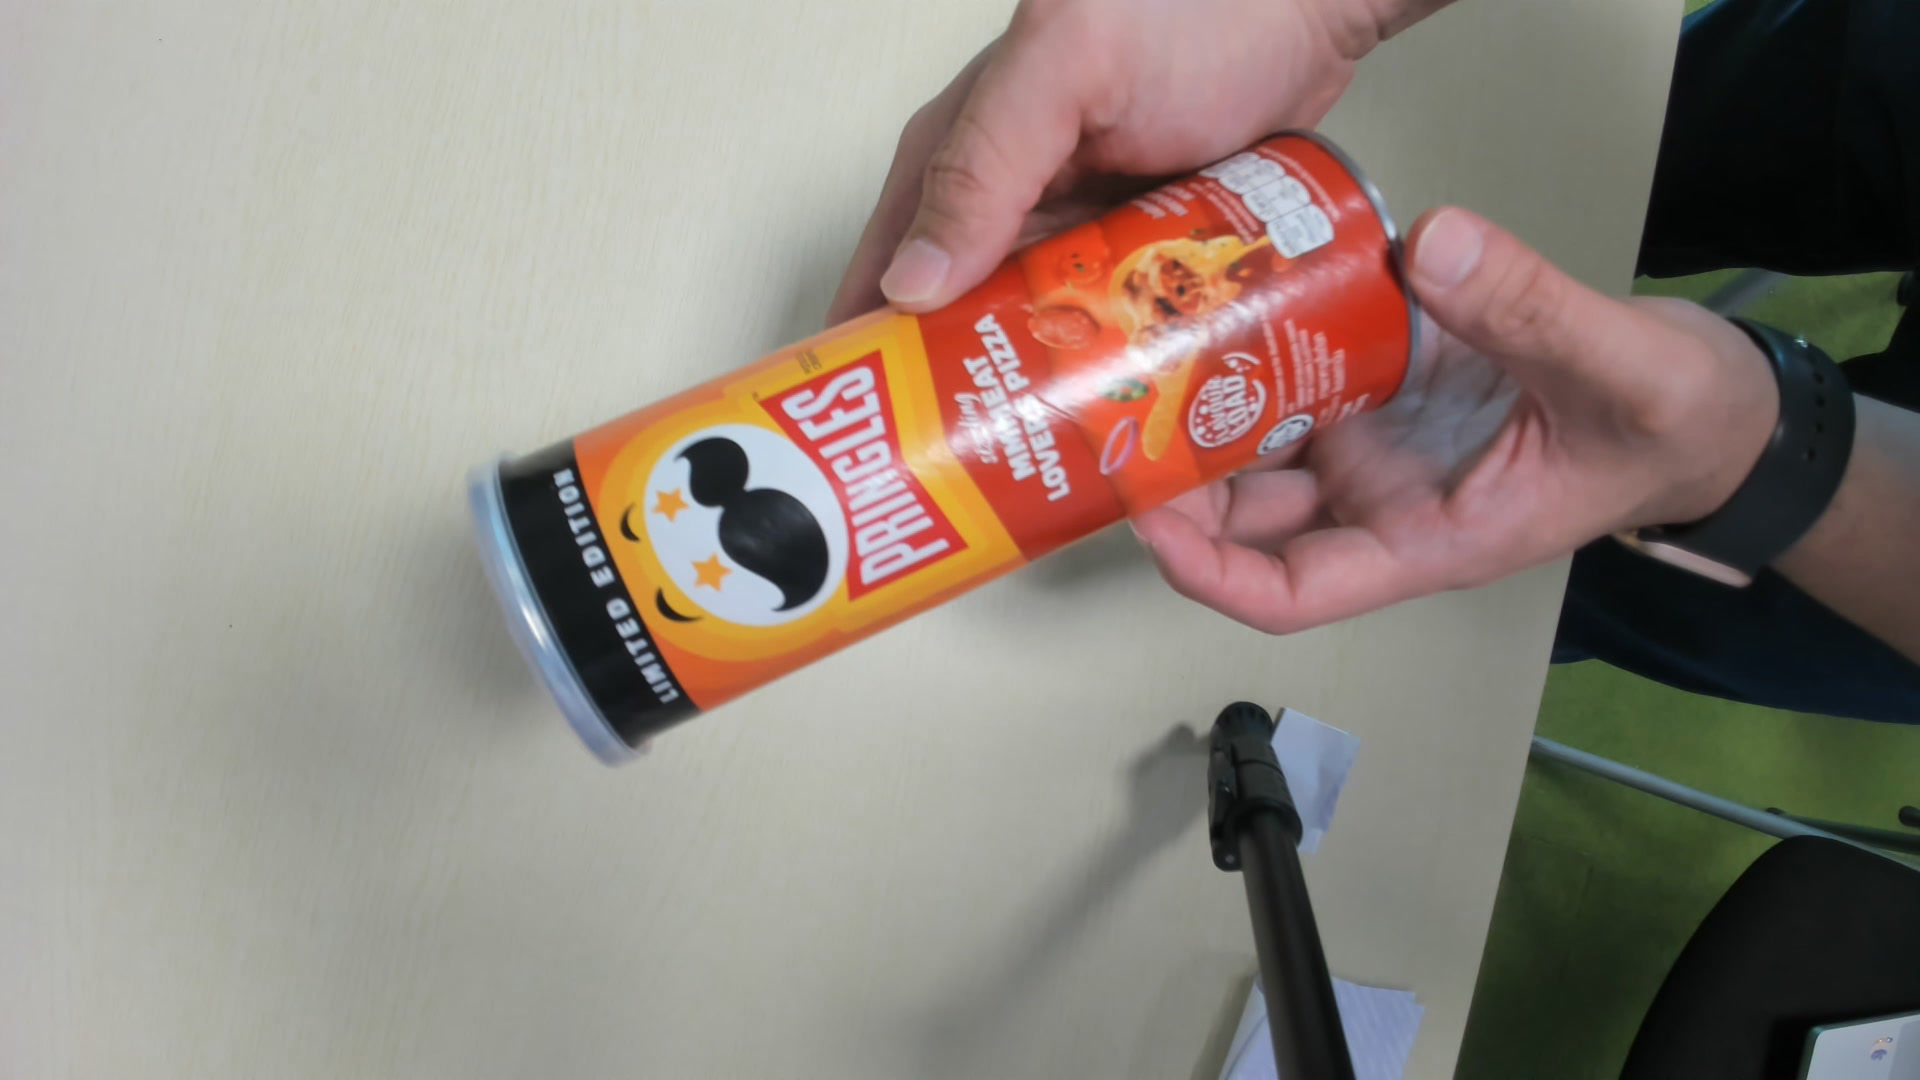PotatoChipsKeropok_0-99g_Halal_NonHealthy: (454, 129, 1437, 774)
